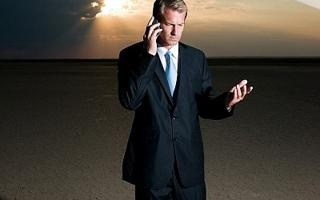person without safety: (118, 1, 216, 200)
